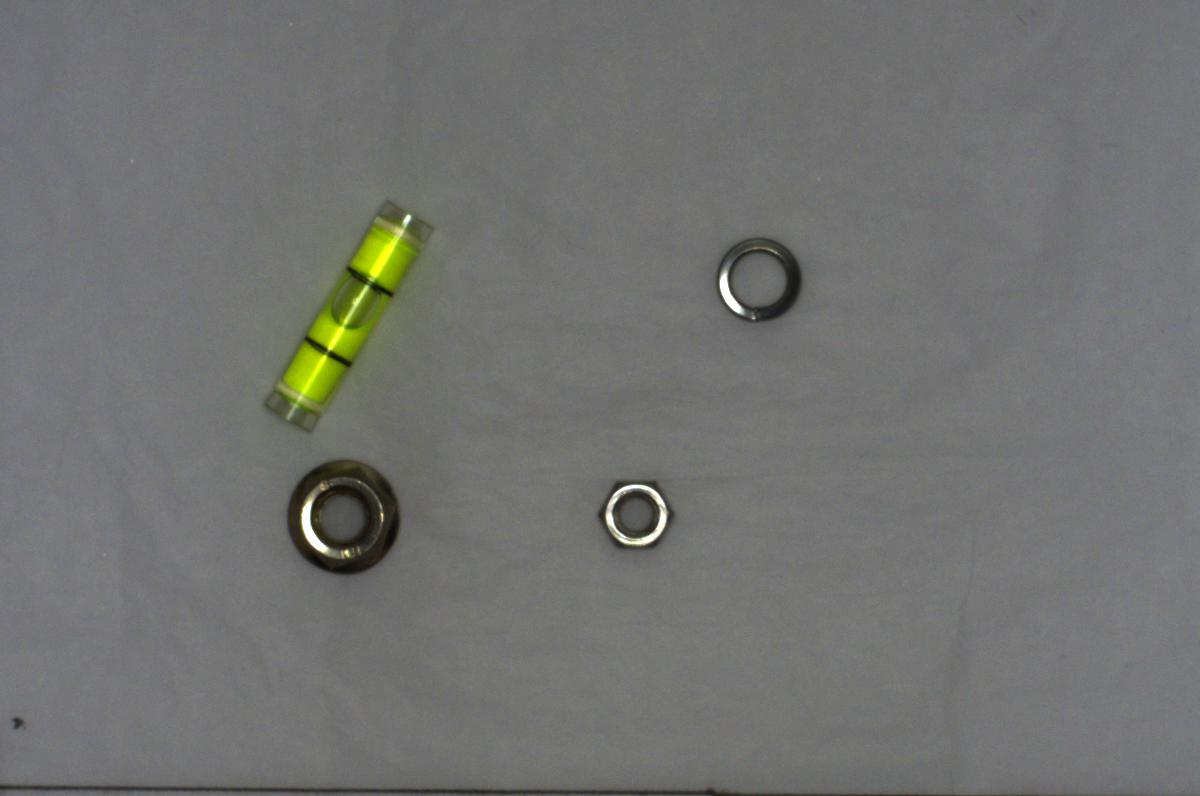Flange nut: (284, 445, 410, 575)
Hexagon nut: (585, 469, 685, 559)
Horizontal bubble: (252, 186, 434, 439)
Spring washer: (710, 229, 810, 330)
